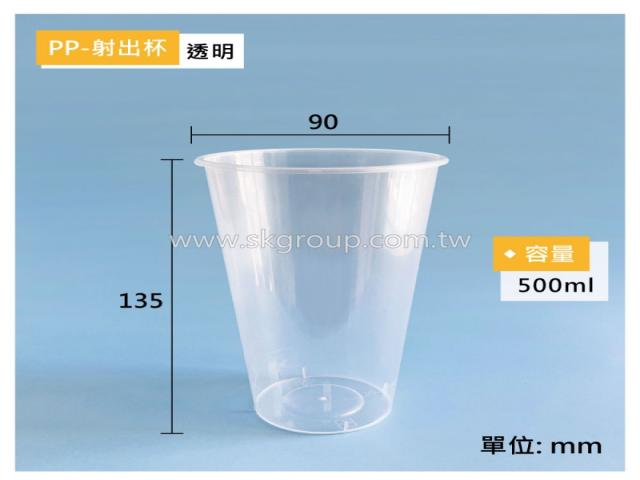cup: (195, 149, 448, 434)
